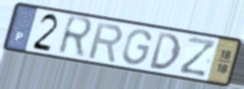2: (31, 13, 61, 54)
D: (148, 30, 182, 72)
G: (121, 28, 153, 67)
R: (55, 13, 96, 60), (87, 20, 125, 64)
Z: (176, 35, 218, 79)
